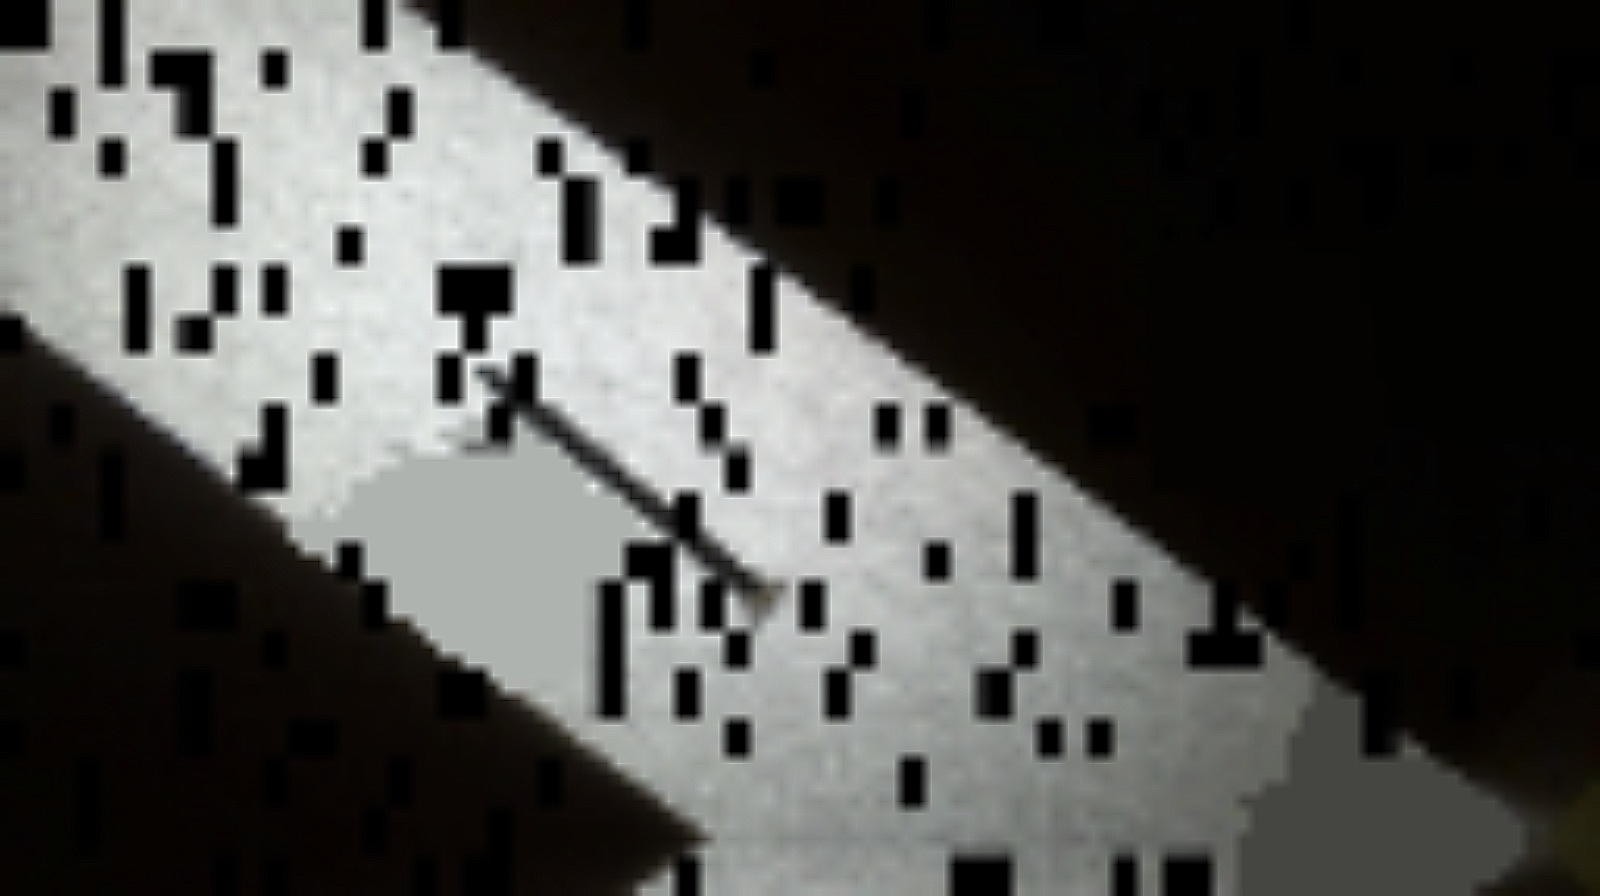S002: (433, 351, 827, 646)
